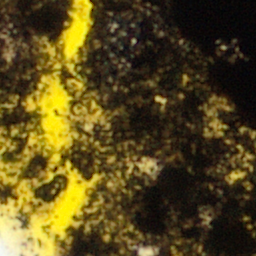cement_matrix: (59, 0, 255, 255), (0, 0, 71, 163), (19, 150, 64, 203), (0, 183, 14, 200), (138, 159, 155, 172)
cracks: (0, 0, 102, 255), (18, 149, 65, 204)
gravel_crushed_stones: (0, 221, 38, 255), (139, 160, 154, 171), (0, 136, 9, 150), (138, 247, 153, 255)
